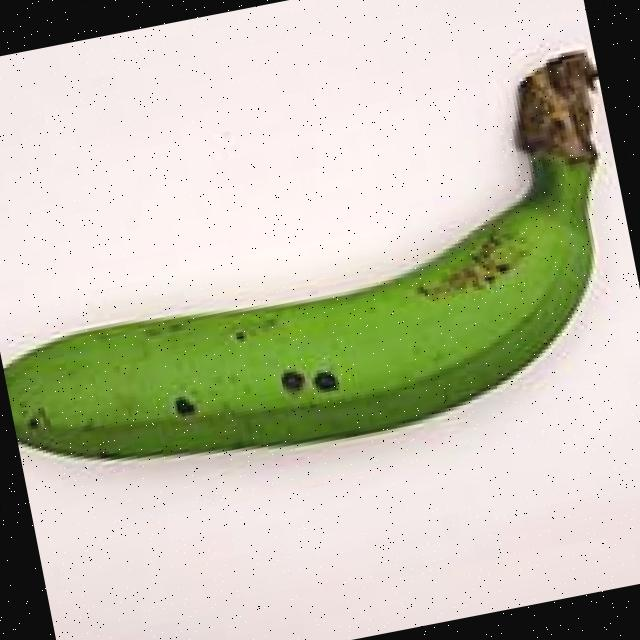Raw: (0, 31, 640, 506)
